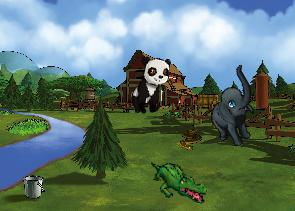crocodile: (146, 160, 210, 204)
elephant: (193, 64, 276, 152)
panda: (128, 53, 173, 118)
